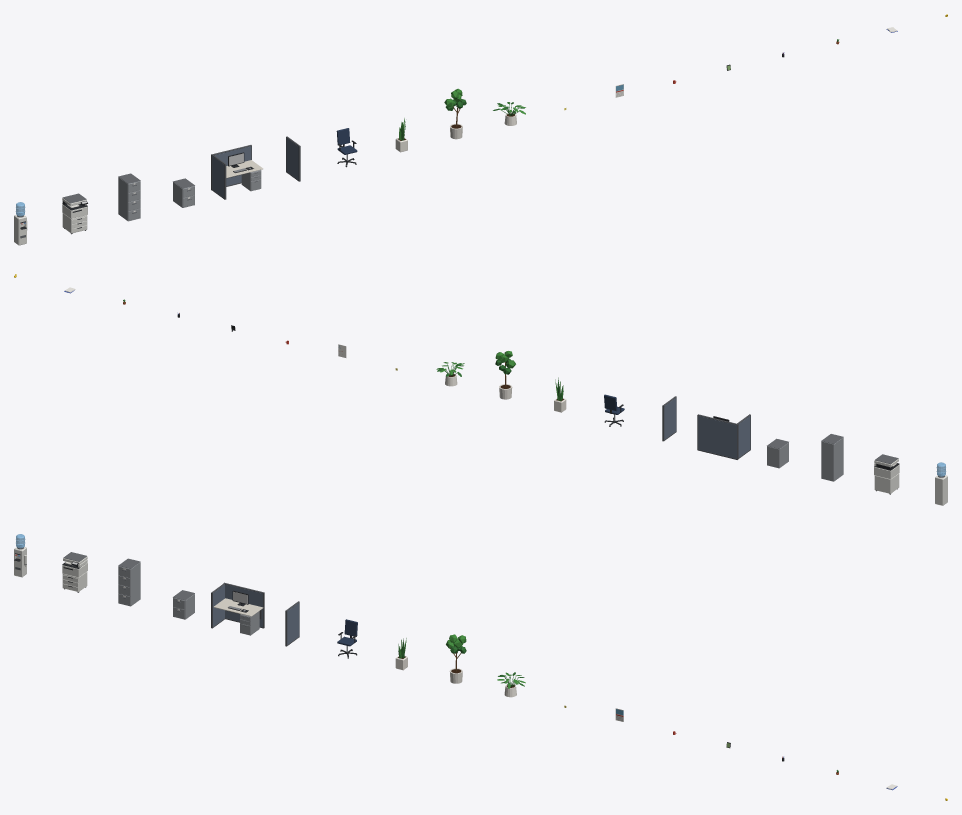
The model's file is Office.glb.
3 renders of one model, top to bottom at view 1: azimuth 30°, elevation 25°; view 2: azimuth 150°, elevation 25°; view 3: azimuth 330°, elevation 25°, orthographic.
Parts seen in each view (by area): view 1: Desk, Cabinet, Printer, LowCabinet, Panel, Ficus, WaterCooler; view 2: Desk, Cabinet, Printer, LowCabinet, Panel, Ficus; view 3: Desk, Cabinet, Printer.
Boxes of the visible parts, x1,y1,x2,y2 form: Desk: (211, 145, 263, 199); Cabinet: (118, 173, 140, 221); Printer: (62, 193, 87, 234); LowCabinet: (173, 178, 194, 207); Panel: (286, 136, 300, 181); Ficus: (444, 88, 466, 139); WaterCooler: (14, 202, 27, 245); Desk: (697, 414, 750, 459); Cabinet: (821, 434, 843, 481); Printer: (874, 454, 899, 494); LowCabinet: (767, 438, 788, 468); Panel: (662, 396, 676, 441); Ficus: (495, 351, 515, 399); Desk: (211, 582, 264, 635); Cabinet: (118, 558, 140, 606); Printer: (62, 552, 87, 592).
Size of the model in its own units: 171 by 8.16 by 5.55.
